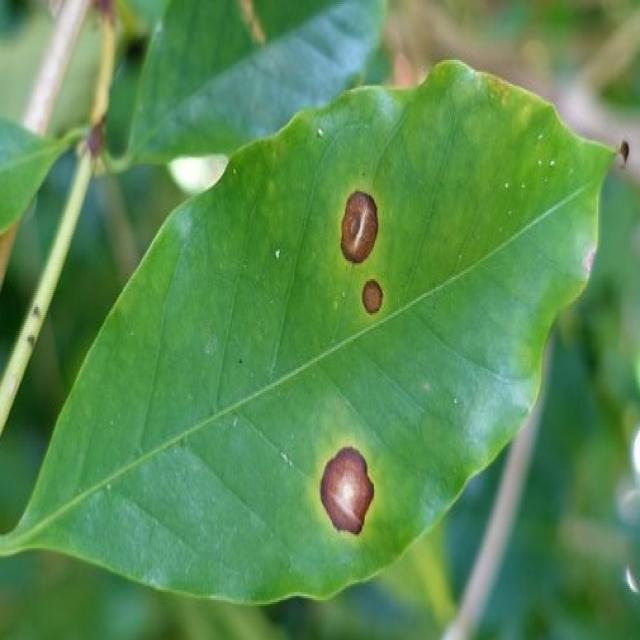Enfermedad-Mancha-de-hierro: (0, 60, 621, 608)
